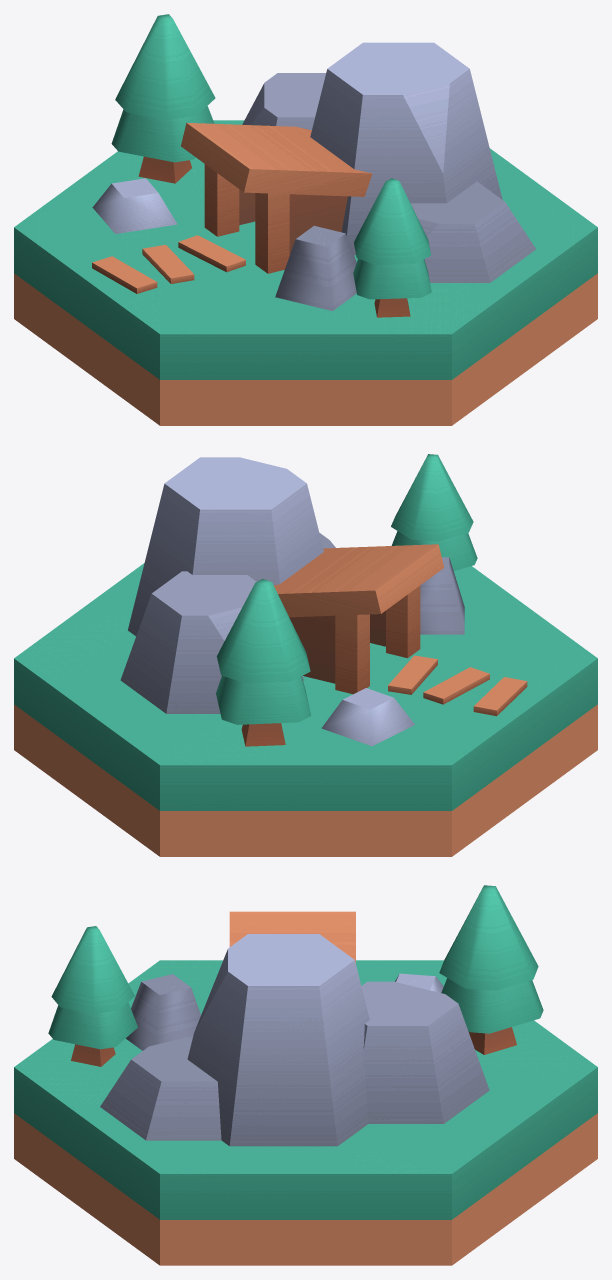
File: building-mine.glb
The picture shows the model from 3 angles, top to bottom: view 1: azimuth 30°, elevation 25°; view 2: azimuth 150°, elevation 25°; view 3: azimuth 270°, elevation 25°; orthographic projection.
Parts seen in each view (by area): view 1: building-mine; view 2: building-mine; view 3: building-mine.
Boxes of the visible parts, x1,y1,x2,y2 form: building-mine: (14,14,597,425); building-mine: (14,454,597,856); building-mine: (14,885,597,1265).
Size of the model in its own units: 10 by 5.38 by 11.55.
1 material, 1 textured.
